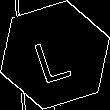L_N: (32, 26, 78, 84)
